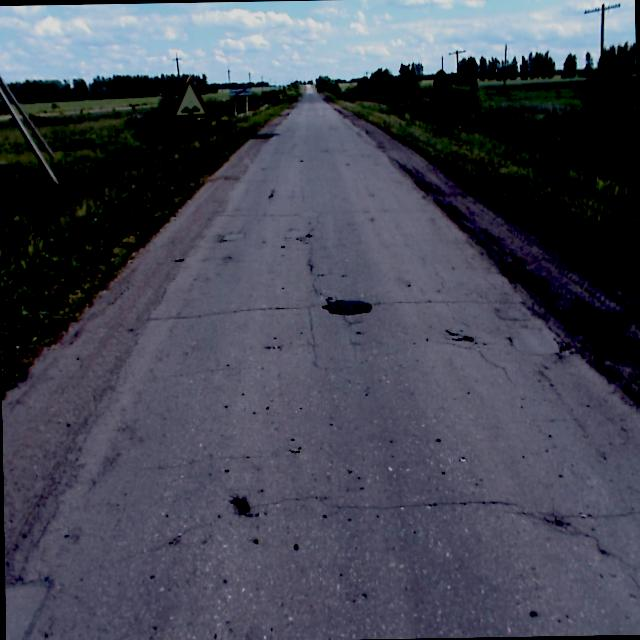road: (4, 98, 640, 640)
